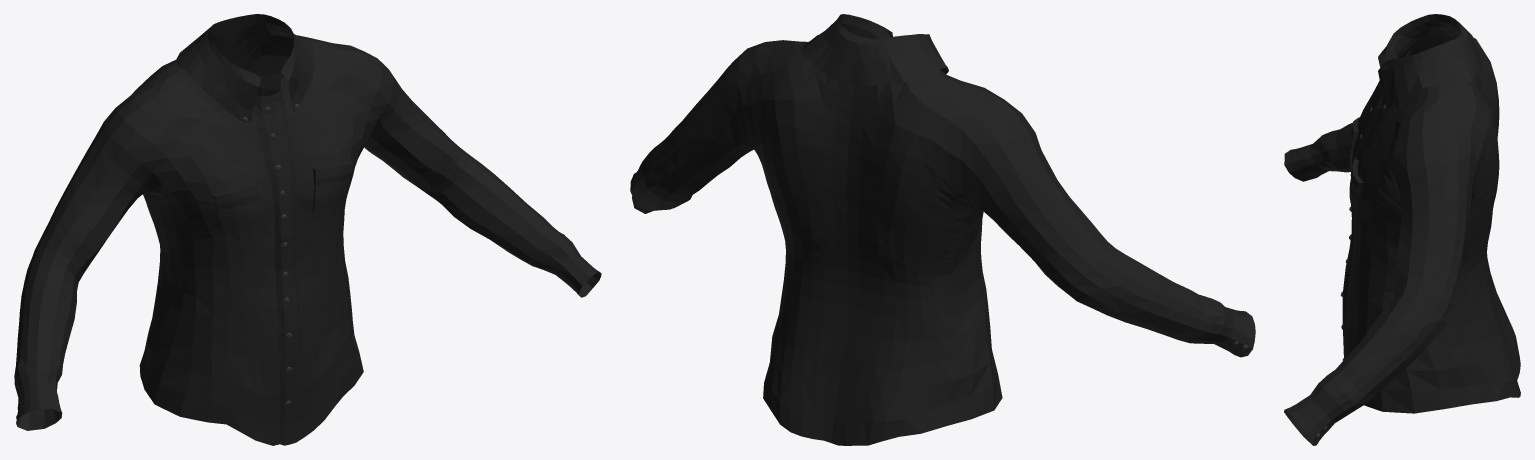
Rendered from mhw_elvs_male_shirt_untucked_bd1.glb.
3 renders of one model, left to right at view 1: azimuth 30°, elevation 25°; view 2: azimuth 150°, elevation 25°; view 3: azimuth 270°, elevation 25°, orthographic. The views are drawn at different scales.
Visible parts, largest first — view 1: mhw_elvs_male_shirt_untucked_bd1; view 2: mhw_elvs_male_shirt_untucked_bd1; view 3: mhw_elvs_male_shirt_untucked_bd1.
Boxes of the visible parts, x1,y1,x2,y2 form: mhw_elvs_male_shirt_untucked_bd1: [14, 14, 601, 445]; mhw_elvs_male_shirt_untucked_bd1: [630, 14, 1255, 445]; mhw_elvs_male_shirt_untucked_bd1: [1284, 14, 1520, 445].
Size of the model in its own units: 1.12 by 0.7067 by 0.4047.
Materials: 1 (1 with a texture image).
